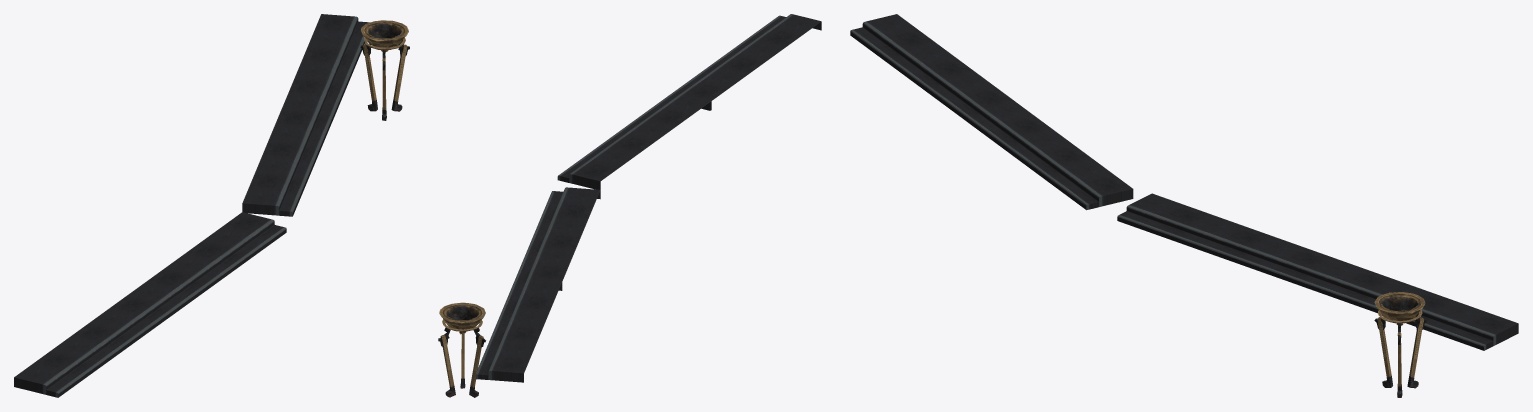
The model's file is StaticMesh02_0_SM_BrazierHISMA_18_Lod0.fbx.
The picture shows the model from 3 angles, left to right: view 1: azimuth 30°, elevation 25°; view 2: azimuth 210°, elevation 25°; view 3: azimuth 270°, elevation 25°; orthographic projection. The views are drawn at different scales.
Parts seen in each view (by area): view 1: Sunforge_Sungate_StaticMesh02_0_SM_BrazierHISMA_18.mo; view 2: Sunforge_Sungate_StaticMesh02_0_SM_BrazierHISMA_18.mo; view 3: Sunforge_Sungate_StaticMesh02_0_SM_BrazierHISMA_18.mo.
Part boxes in pixels (box(x1,y1,x2,y2)): Sunforge_Sungate_StaticMesh02_0_SM_BrazierHISMA_18.mo: box(14, 14, 409, 397); Sunforge_Sungate_StaticMesh02_0_SM_BrazierHISMA_18.mo: box(438, 14, 821, 397); Sunforge_Sungate_StaticMesh02_0_SM_BrazierHISMA_18.mo: box(850, 14, 1518, 397).
Size of the model in its own units: 3490 by 439 by 3017.
Materials: 1 (1 with a texture image).
